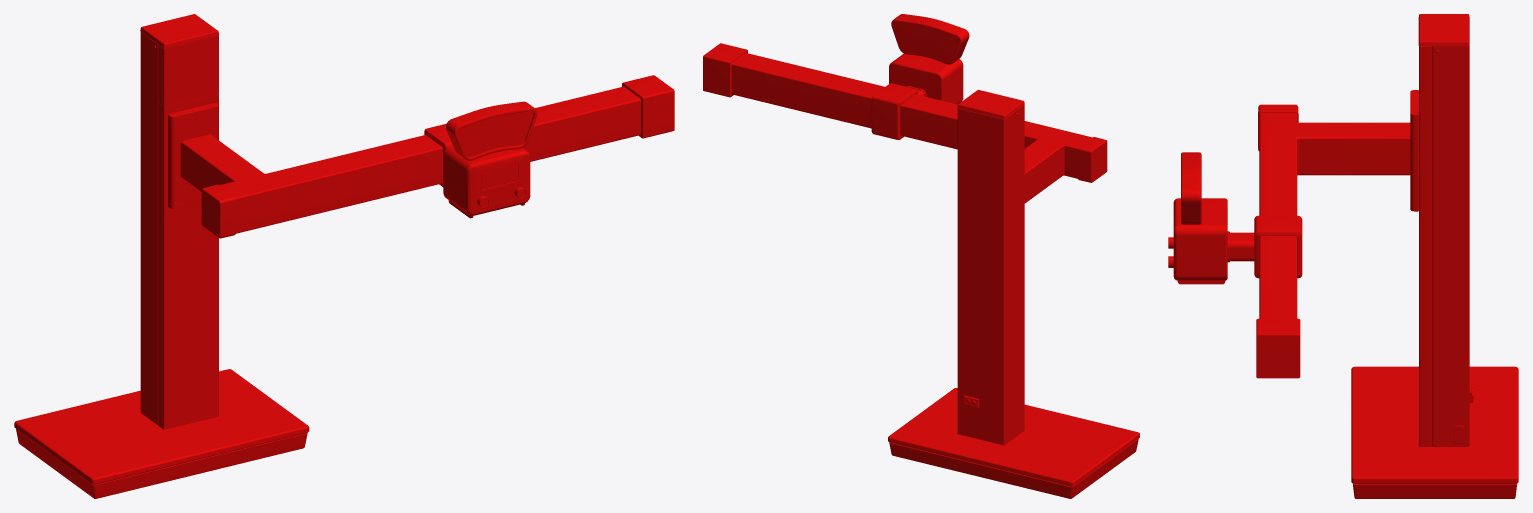
File: Equipment_12.fbx
The picture shows the model from 3 angles, left to right: view 1: azimuth 30°, elevation 25°; view 2: azimuth 150°, elevation 25°; view 3: azimuth 270°, elevation 25°; orthographic projection. The views are drawn at different scales.
Parts seen in each view (by area): view 1: L13:polySurface704; view 2: L13:polySurface704; view 3: L13:polySurface704.
Boxes of the visible parts, <box> form: L13:polySurface704: <box>14,14,674,498</box>; L13:polySurface704: <box>703,14,1139,498</box>; L13:polySurface704: <box>1168,14,1518,498</box>.
Bounding box in the file's own units: 367 × 269 × 197.
